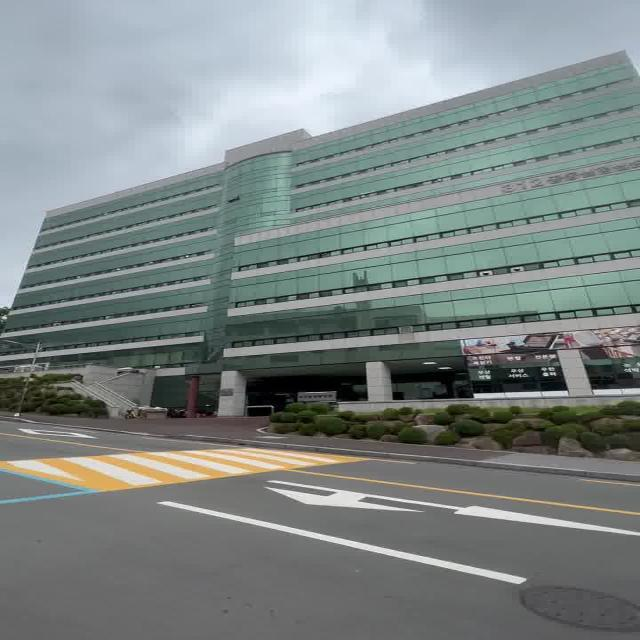building: (41, 118, 640, 336)
